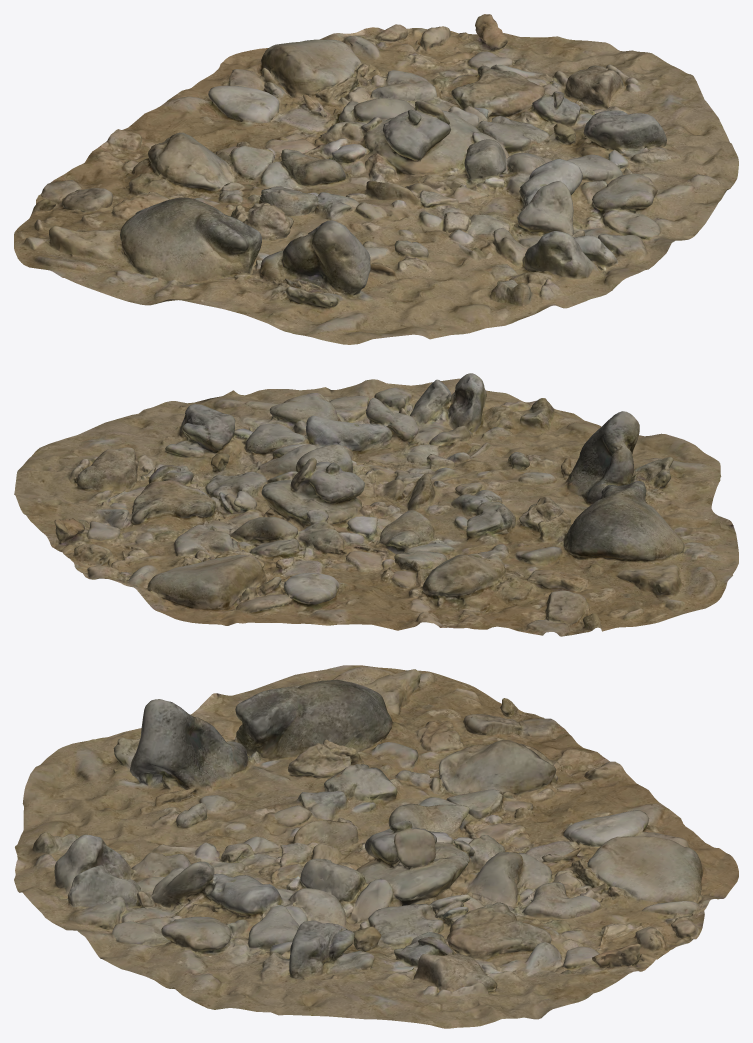
The model's file is sand-rocks-small-01.glb.
The picture shows the model from 3 angles, top to bottom: view 1: azimuth 30°, elevation 25°; view 2: azimuth 150°, elevation 25°; view 3: azimuth 270°, elevation 25°; orthographic projection. The views are drawn at different scales.
Parts seen in each view (by area): view 1: sand_rocks_small_01_LOD0; view 2: sand_rocks_small_01_LOD0; view 3: sand_rocks_small_01_LOD0.
Part boxes in pixels (x1=…): sand_rocks_small_01_LOD0: x1=14, y1=14, x2=738, y2=344; sand_rocks_small_01_LOD0: x1=14, y1=373, x2=738, y2=636; sand_rocks_small_01_LOD0: x1=14, y1=665, x2=738, y2=1028.
Bounding box in the file's own units: 4.63 × 0.5348 × 3.88.
1 material, 1 textured.
